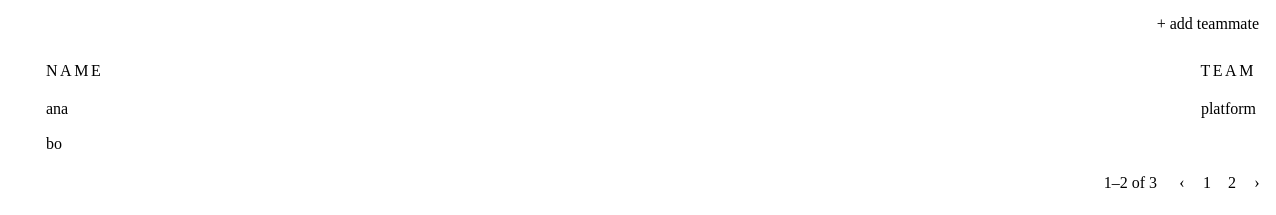
Table — the draft page › is a page in the pager, and only while it is open
Click the button "+ add teammate" at (1208, 24), box [1148,11,1268,37]
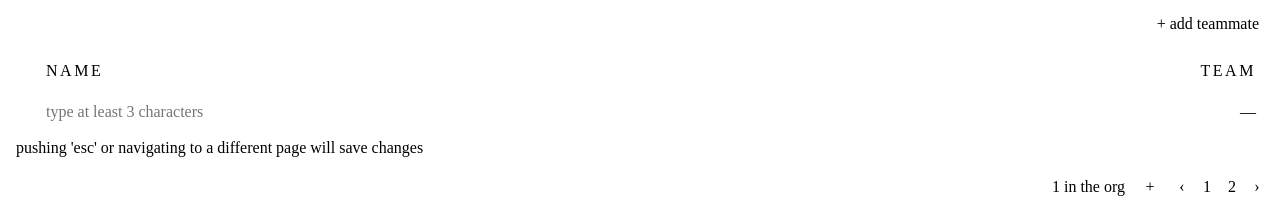
Result: the button with class "tb-page" showing "+" is shown at [1139,176,1161,198]
Result: the dropdown is shown at [46,103,1187,121]
